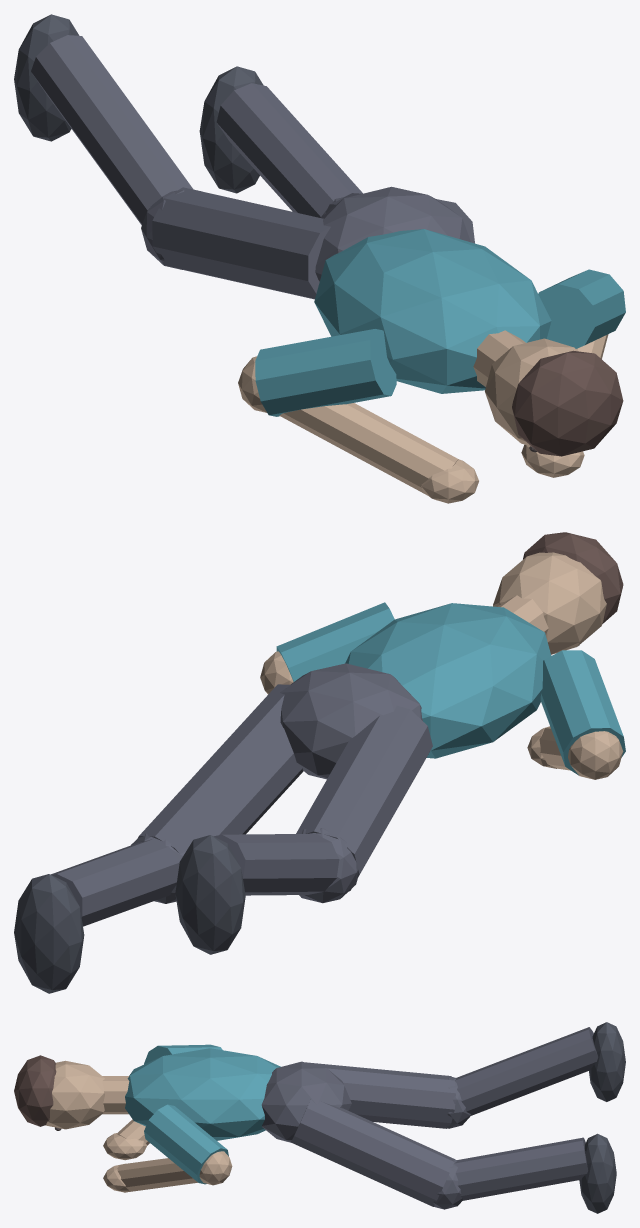
3 renders of one model, top to bottom at view 1: azimuth 30°, elevation 25°; view 2: azimuth 150°, elevation 25°; view 3: azimuth 270°, elevation 25°, orthographic. The views are drawn at different scales.
Parts seen in each view (by area): view 1: world; view 2: world; view 3: world.
Part boxes in pixels (x1,y1,x2,y2): world: [14, 14, 625, 503]; world: [14, 532, 625, 993]; world: [14, 1022, 625, 1213].
Size of the model in its own units: 0.93 by 0.5125 by 2.07.
